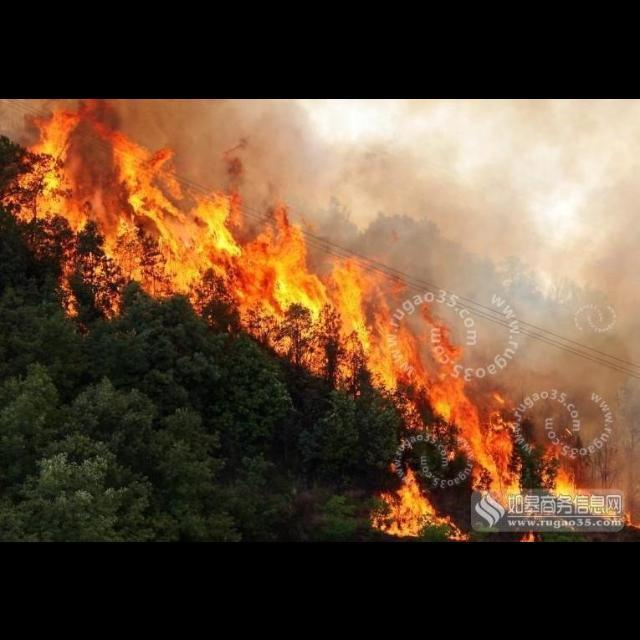Fire: (1, 99, 200, 326), (361, 389, 640, 545), (326, 254, 456, 436), (205, 184, 328, 374)
Smoke: (192, 100, 640, 178), (447, 248, 640, 384), (324, 180, 640, 249)
